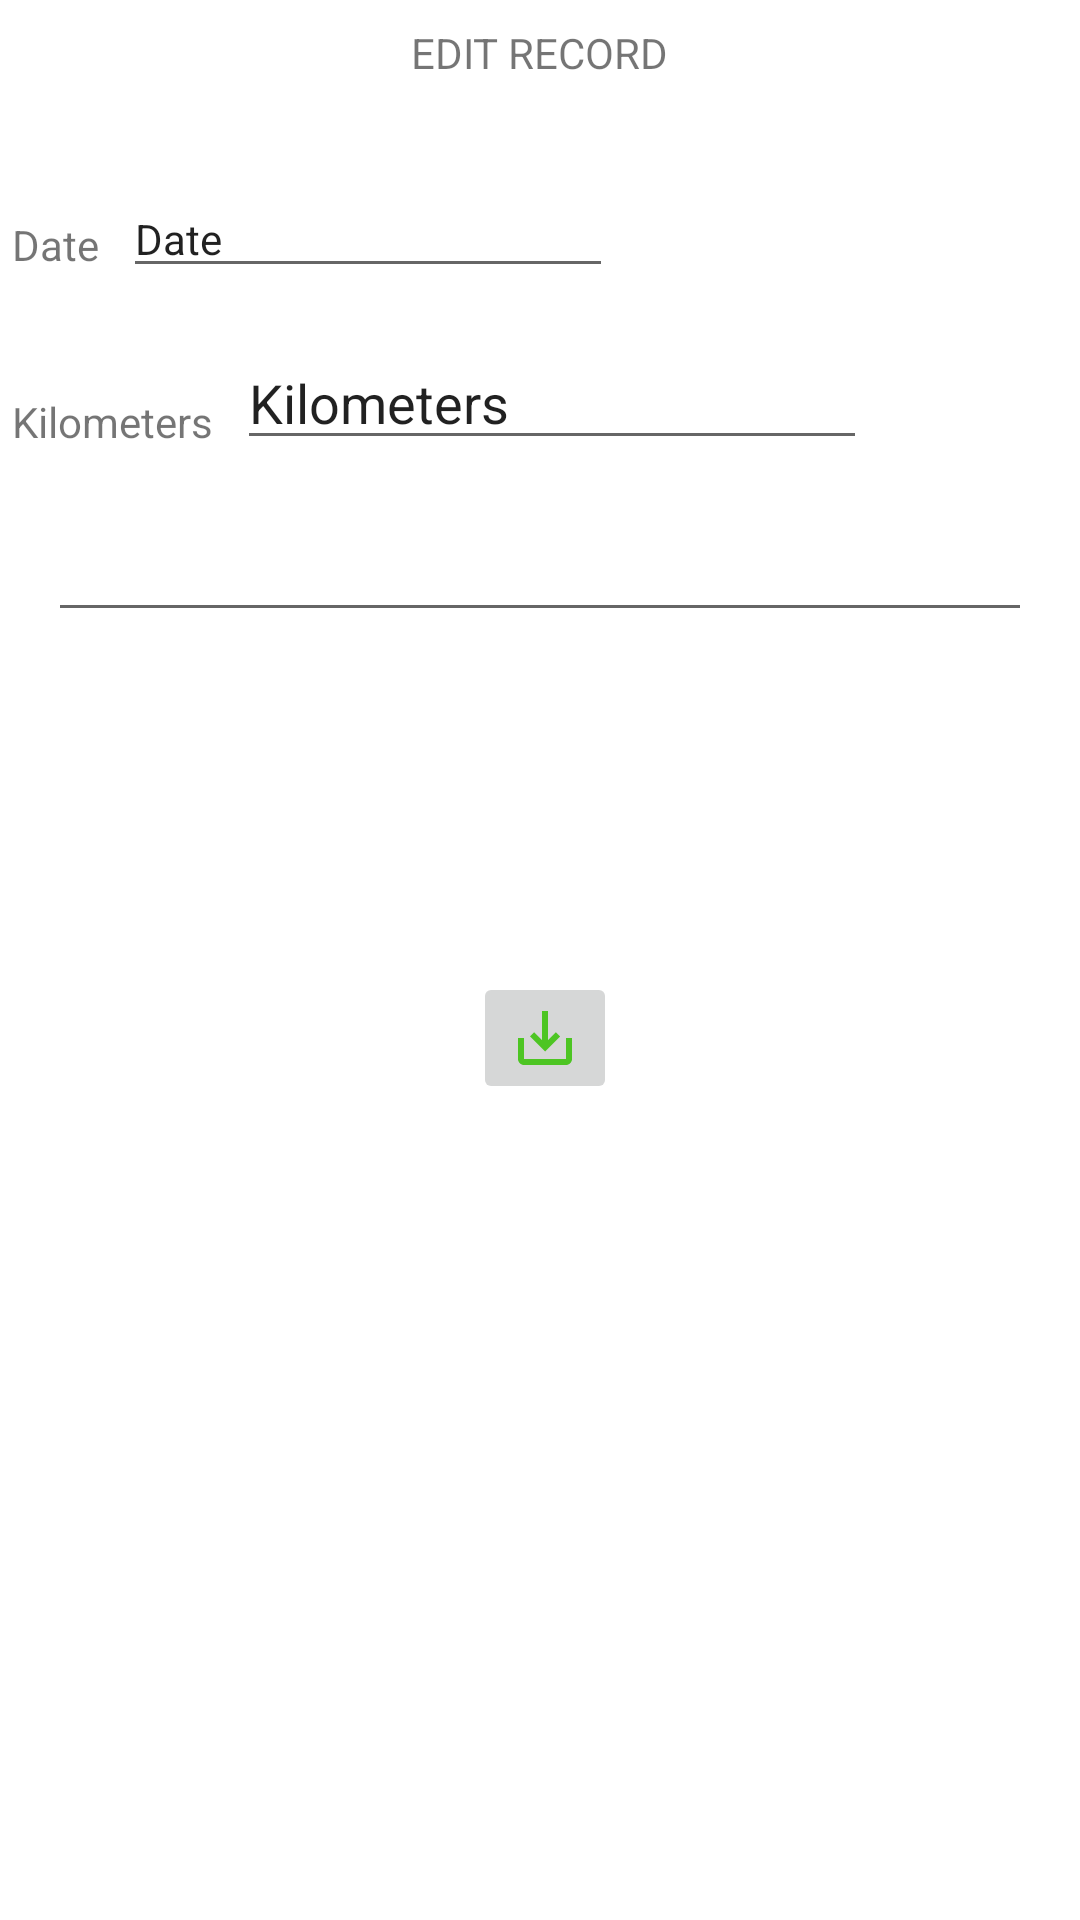

Where to tap for icons on this 1080px×1920px app screen, as (x,y):
Save Record: (545,1038)
